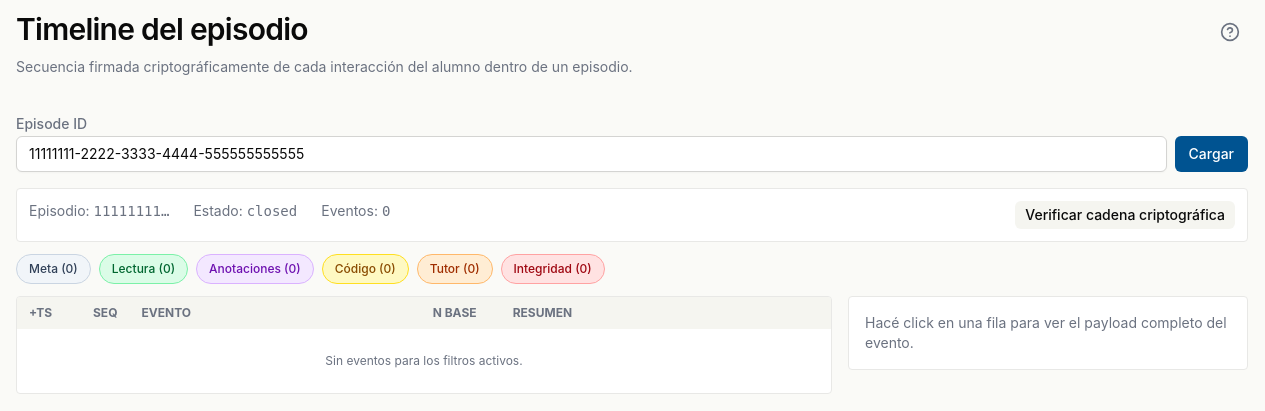
Test: EpisodeTimelineView — verificar cadena › cadena rota: indica en que evento se rompe
The width and height of the screenshot is (1265, 411).
Click the button with test id "timeline-verify": click(1125, 214) [1015,200,1235,228]
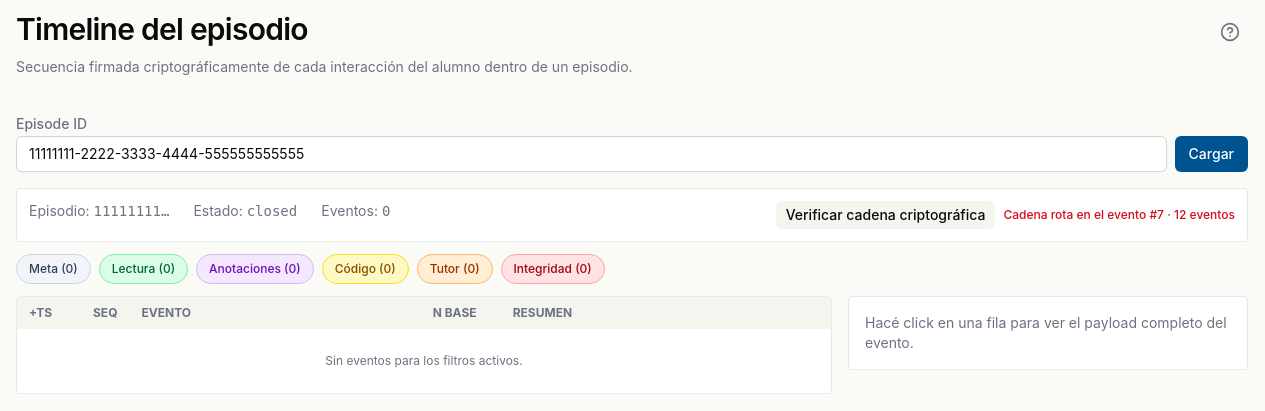
Expected: the text with test id "timeline-verify-result" shows "rota", [1003,206,1235,222]
Expected: the text with test id "timeline-verify-result" shows "7", [1003,206,1235,222]
